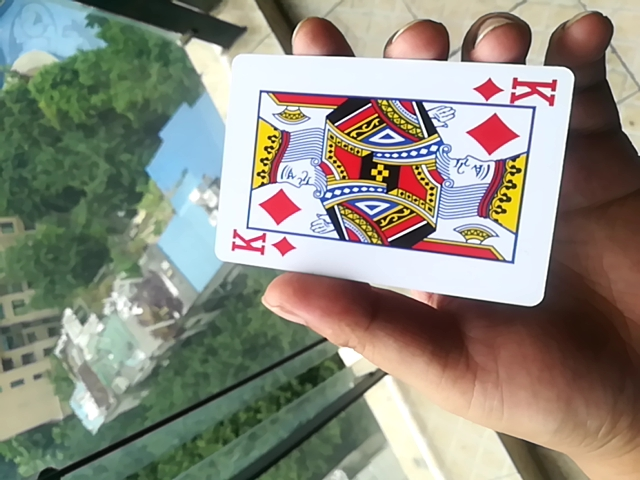fk k: (209, 53, 573, 311)
